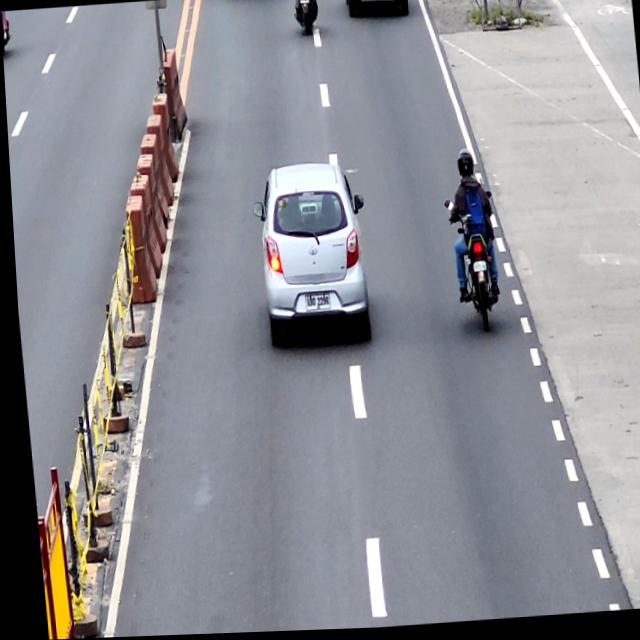Car: (248, 161, 372, 354)
License-Plate: (300, 295, 327, 314), (468, 263, 485, 277)
Motorcycle: (442, 197, 499, 335)
